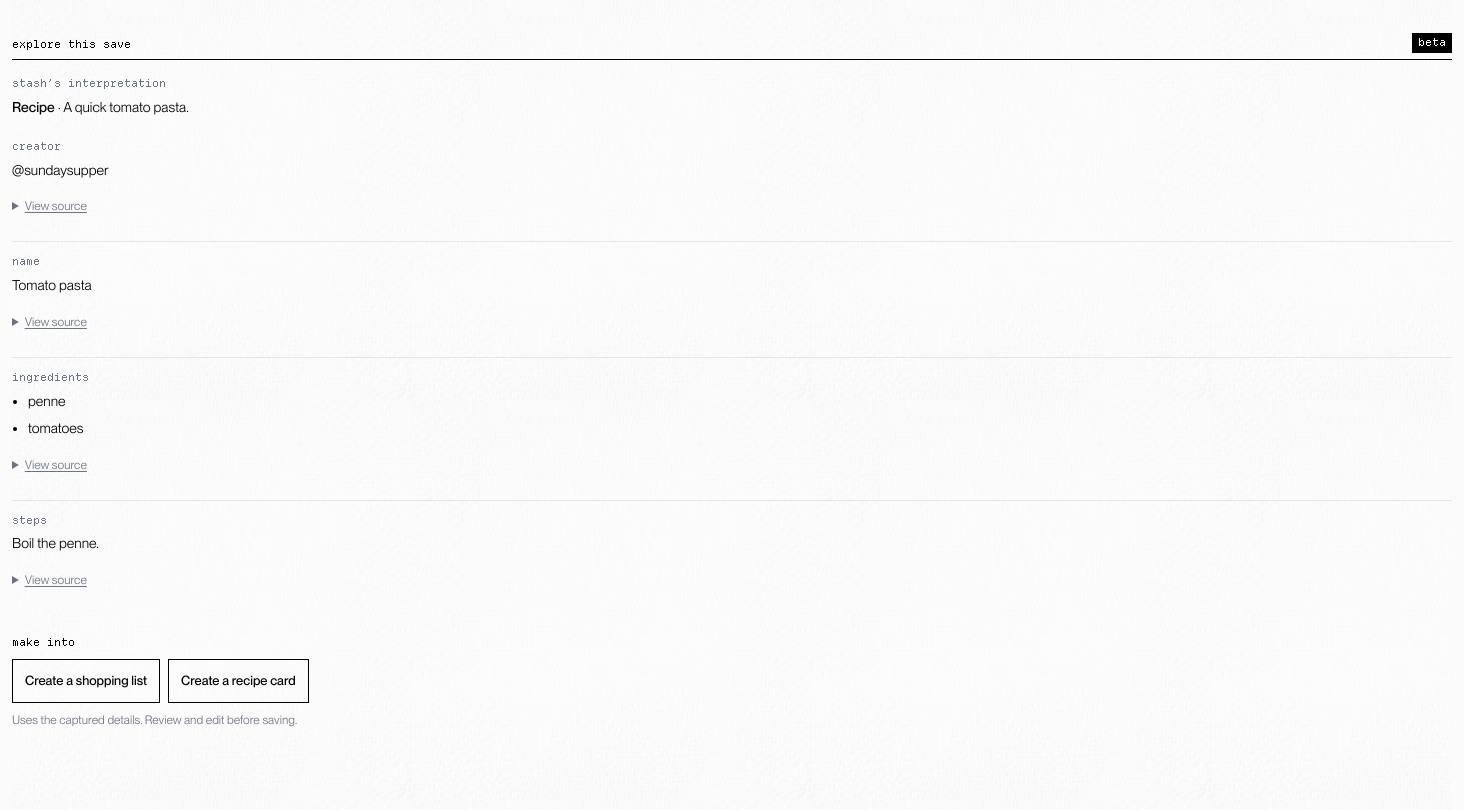
it: requires an inline decision before replacing an edited draft and preserves it on stale source
Step 1. Click the button "Create a shopping list" → (86, 681), box [12,659,160,703]
(page scrolled)
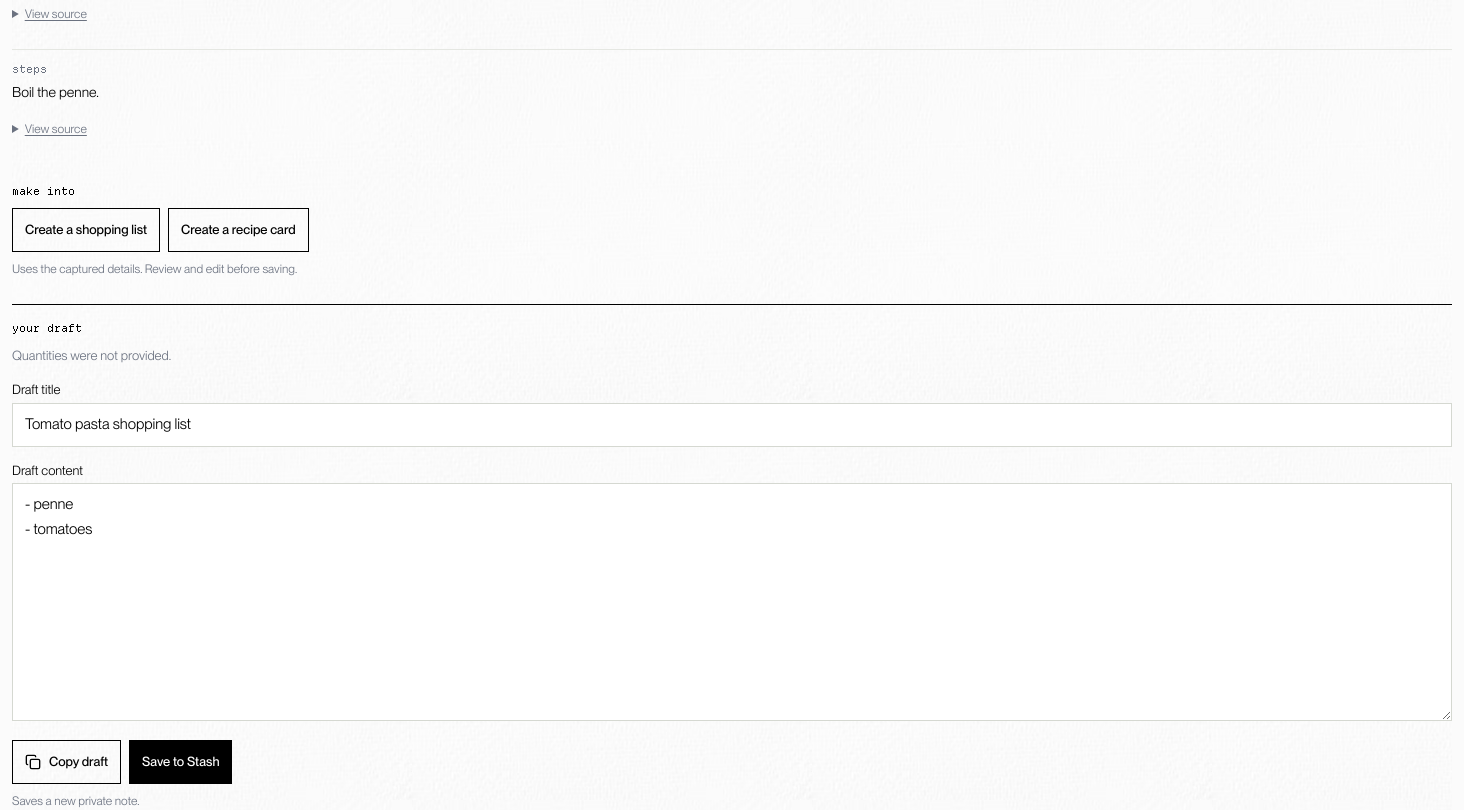
Step 2. Replace the text in the text box labelled "Draft content" with "My edited list" → (732, 602), box [12,484,1452,721]
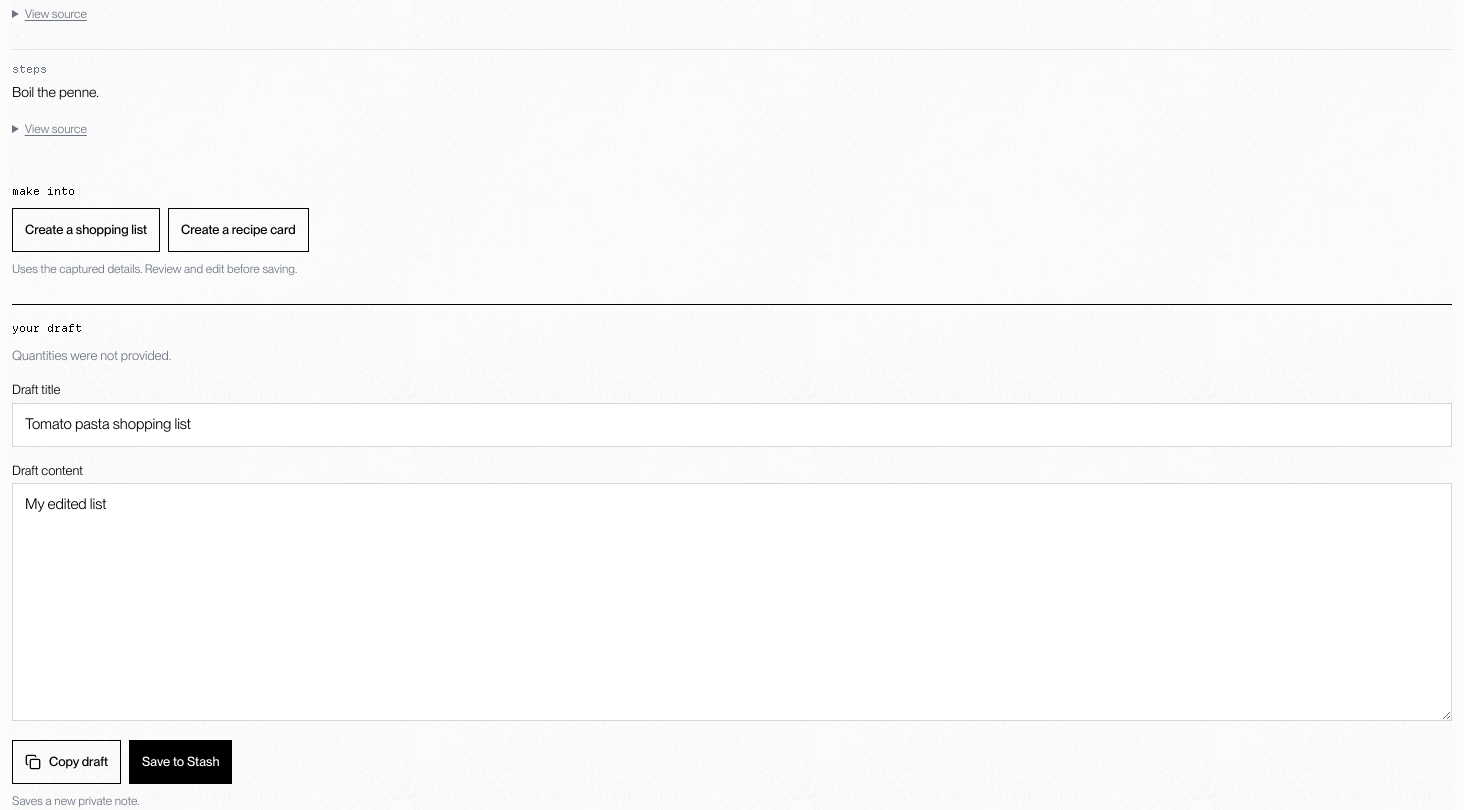
Step 3. Click the button "Create a recipe card" → (238, 230), box [168,208,309,252]
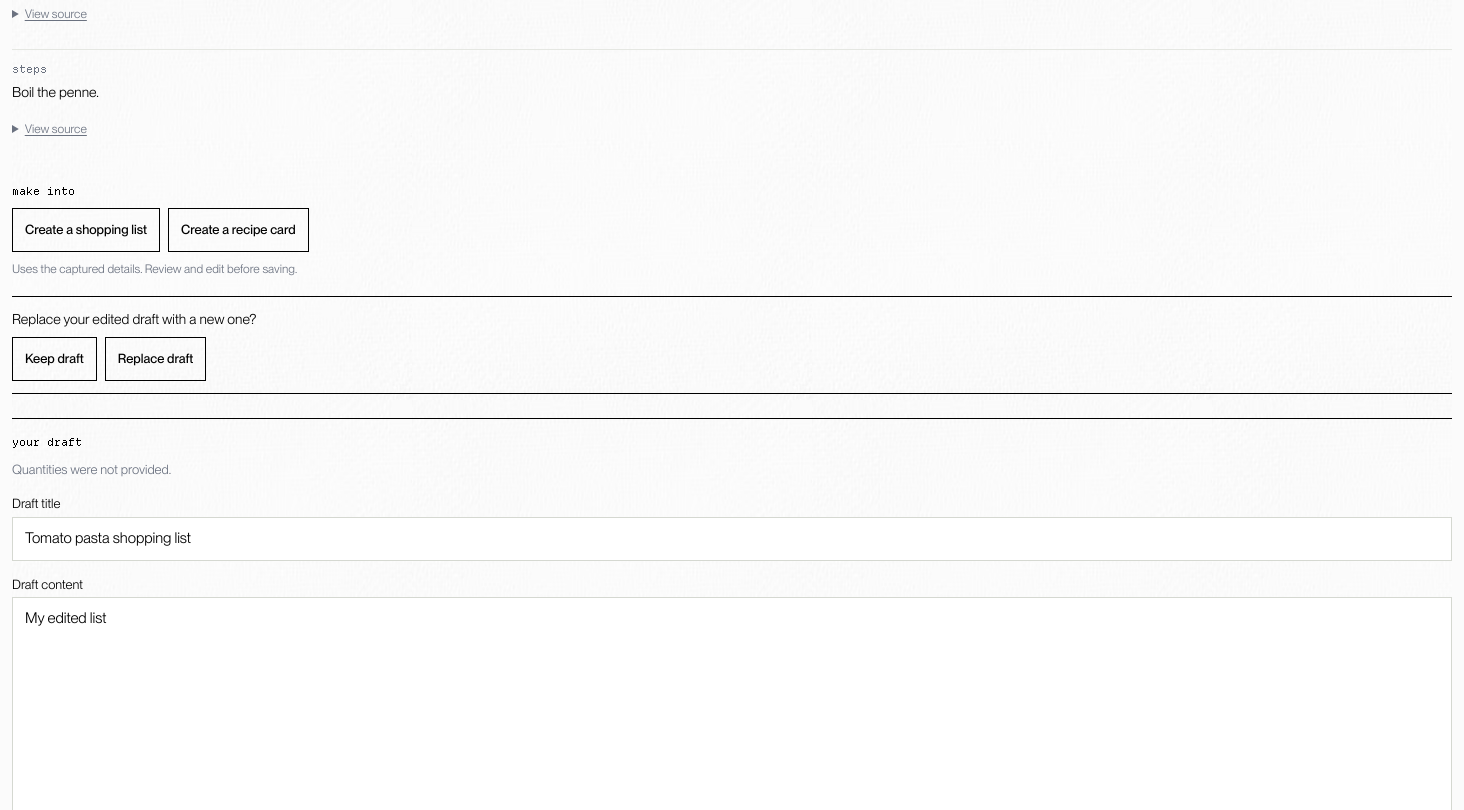
Result: the text "Replace your edited draft with a new one?" is shown at [12,311,256,327]
Step 4. Click the button "Keep draft" → (54, 359), box [12,337,97,381]
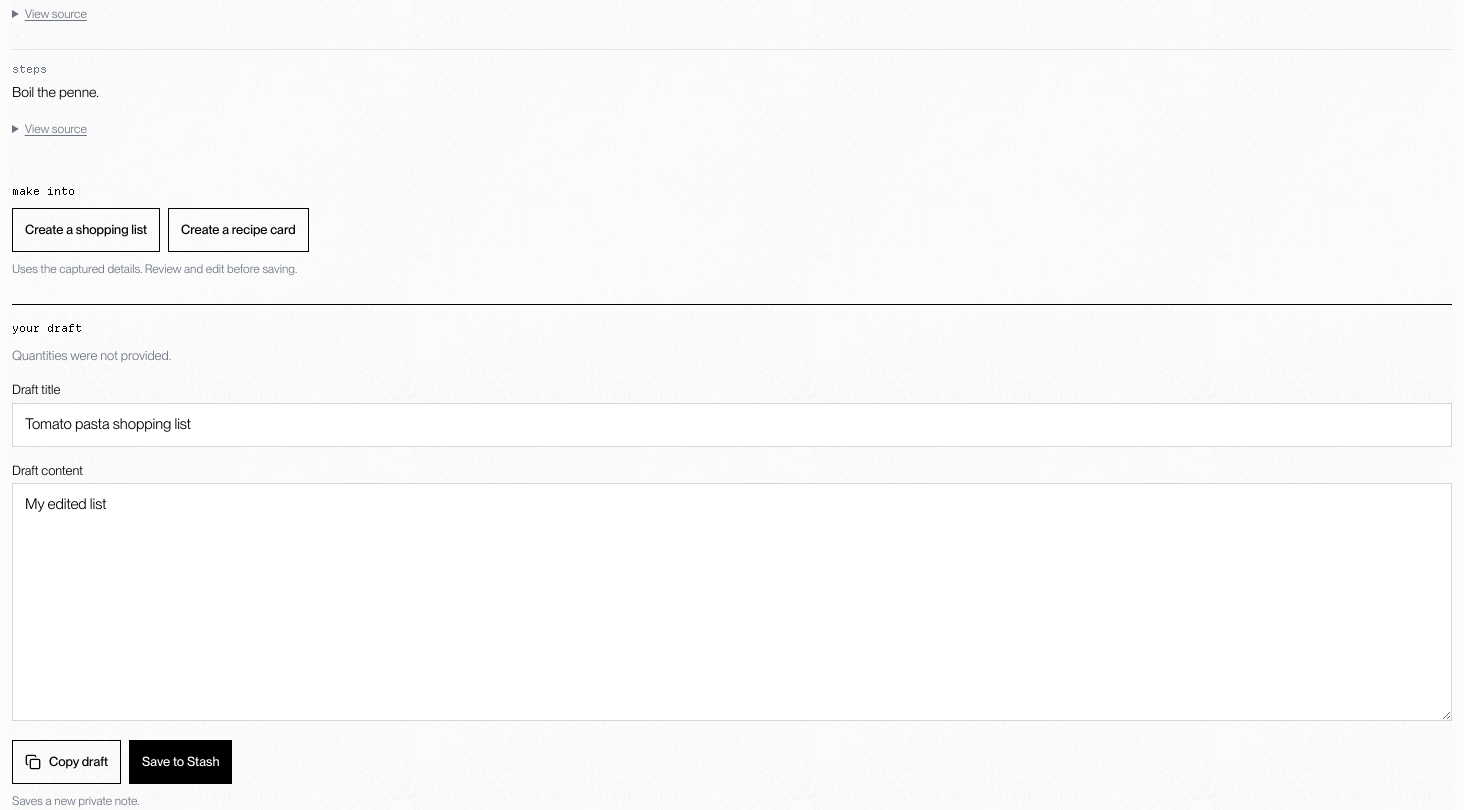
Step 5. Click the button "Create a recipe card" → (238, 230), box [168,208,309,252]
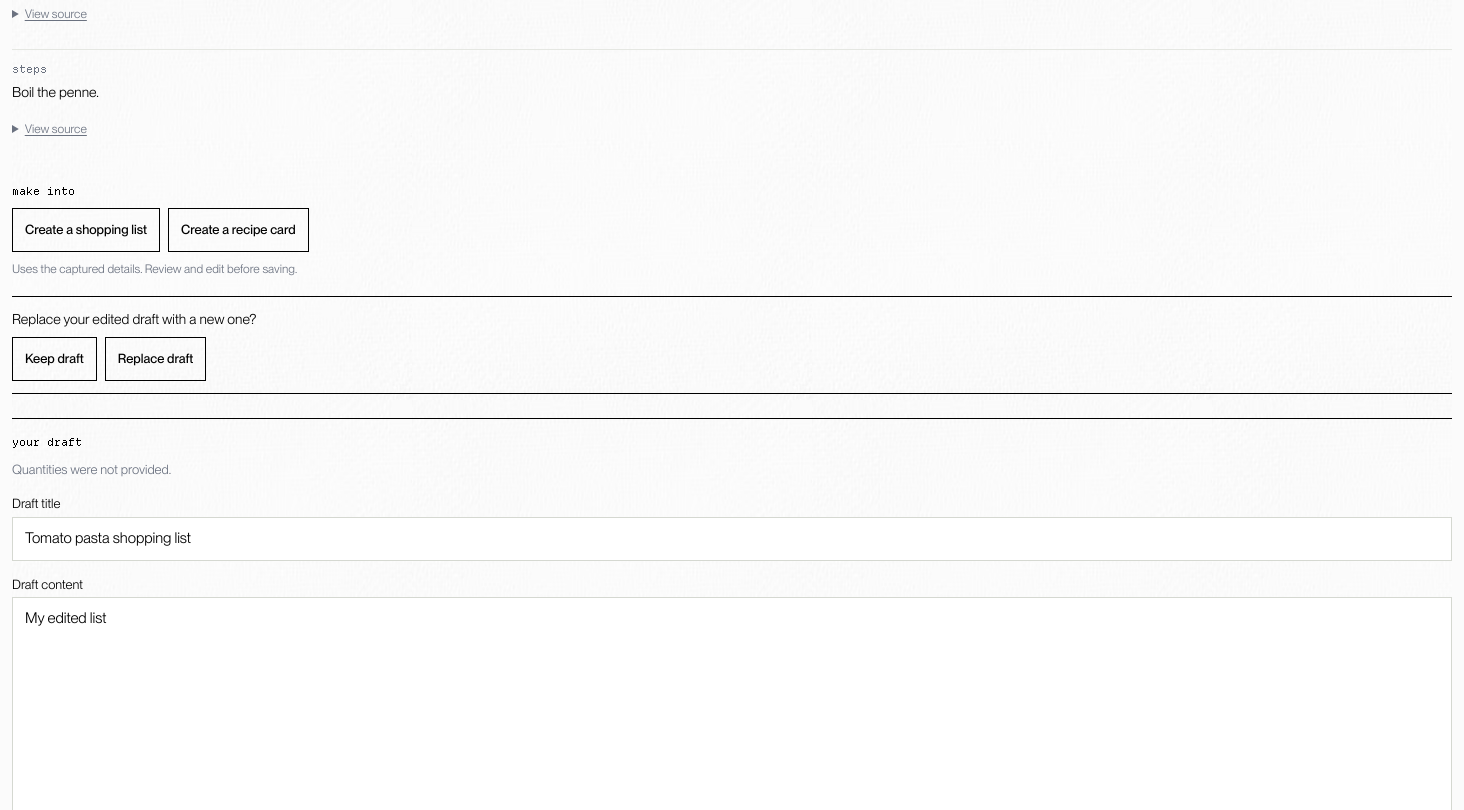
Step 6. Click the button "Replace draft" → (156, 359), box [105,337,206,381]
(page scrolled)
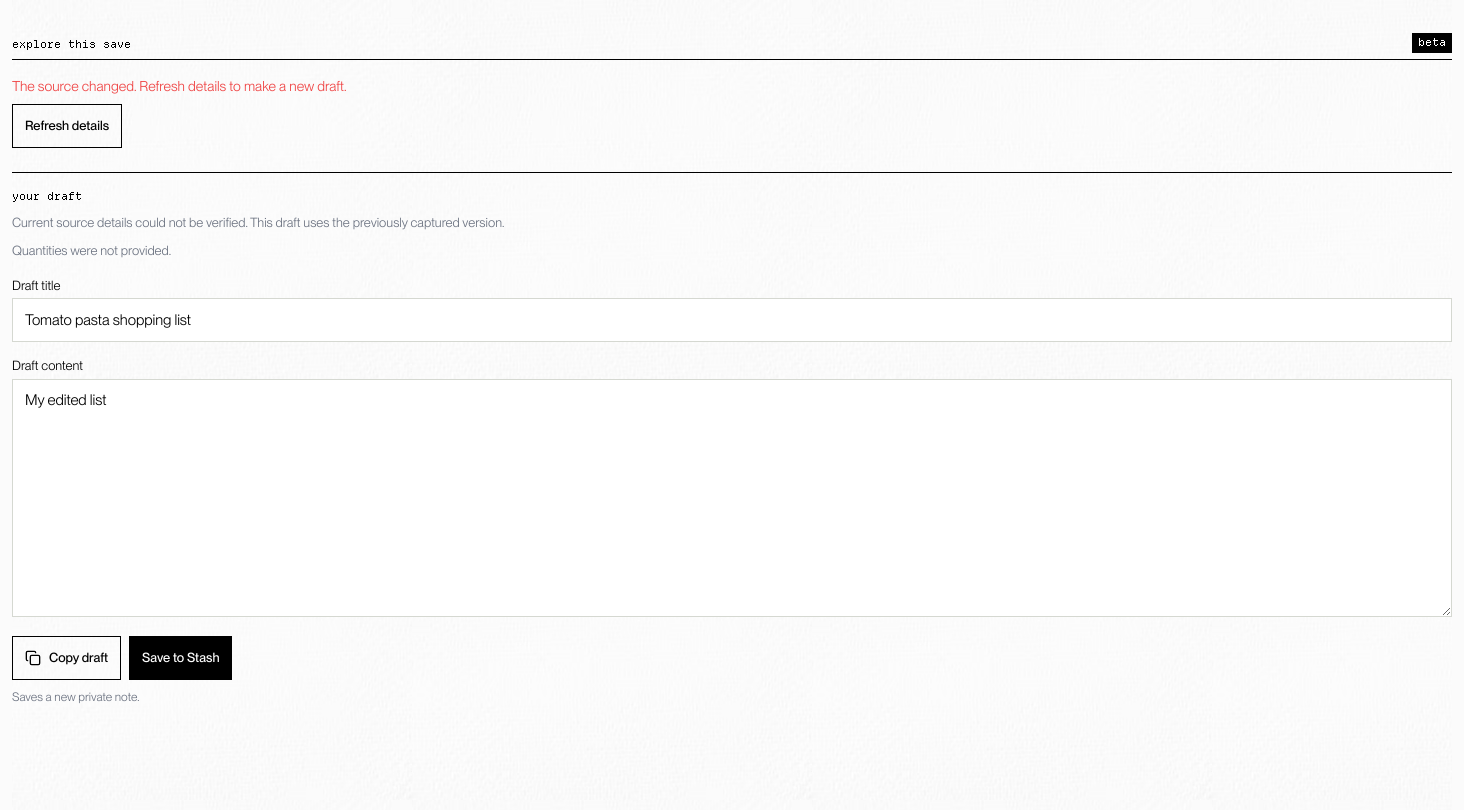
Result: the message "The source changed. Refresh details to make a new draft." is shown at [12,78,346,94]
Result: the button "Refresh details" is shown at [12,104,122,148]
